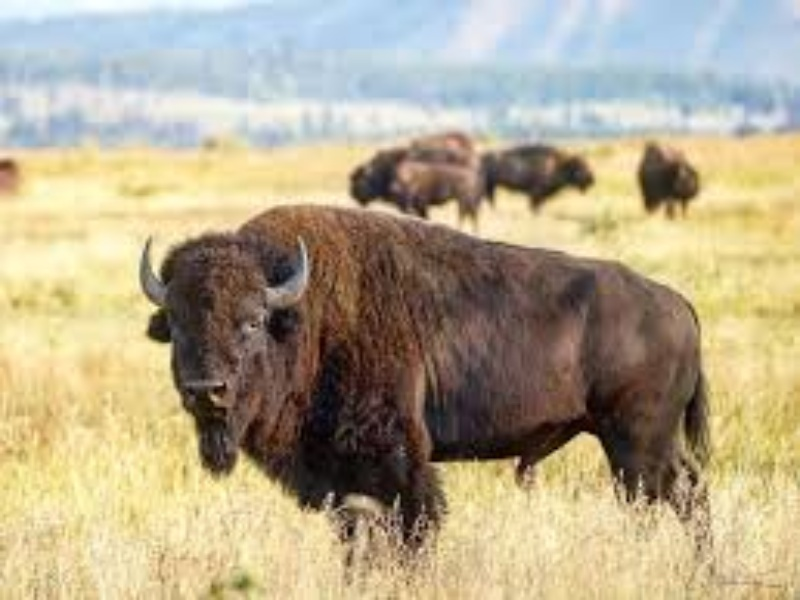buffalo: (119, 203, 723, 553)
